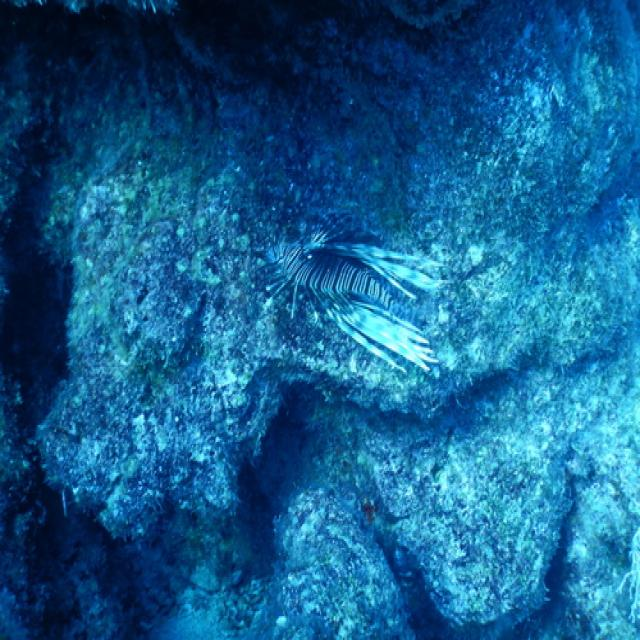Aslan Baligi: (261, 212, 448, 377)
